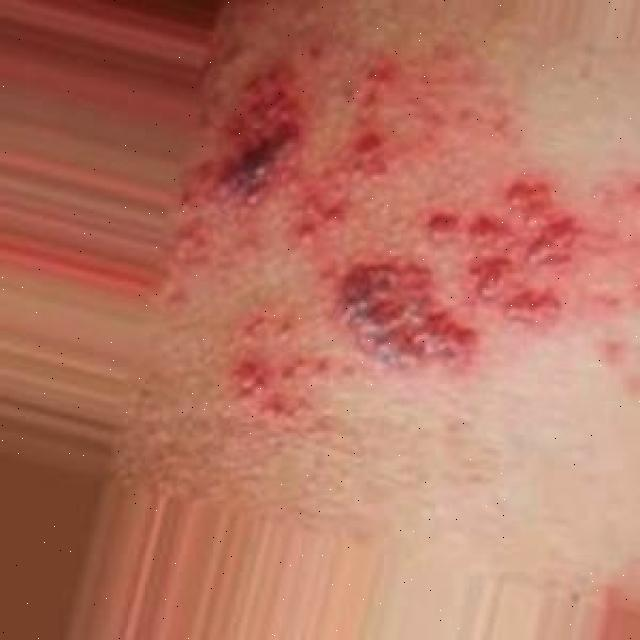Shingles: (422, 176, 582, 331), (293, 60, 403, 253), (329, 258, 480, 382), (218, 51, 302, 203), (234, 305, 328, 423)
